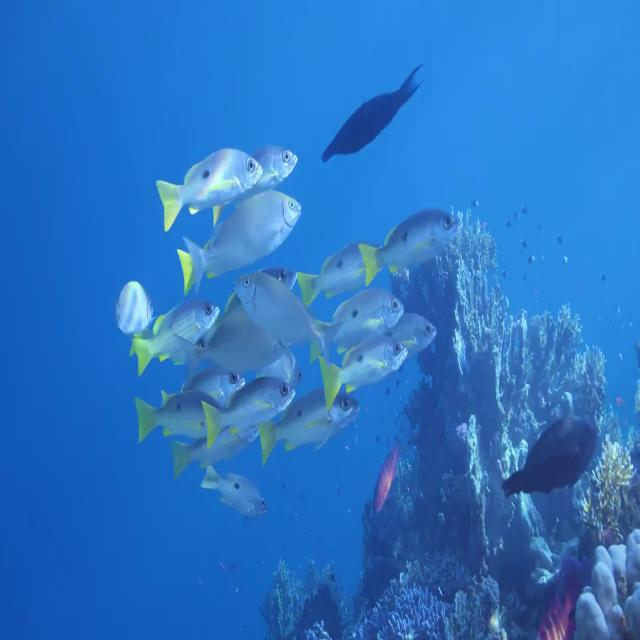fish: (314, 56, 426, 178), (179, 192, 303, 294), (152, 126, 268, 235), (126, 354, 236, 464), (494, 400, 604, 506), (210, 347, 296, 471), (262, 371, 364, 468), (355, 203, 467, 290), (114, 278, 210, 378), (297, 225, 371, 316), (322, 329, 410, 395), (311, 278, 399, 340), (534, 554, 580, 640), (108, 261, 156, 335), (190, 335, 247, 395), (386, 294, 436, 356), (256, 129, 306, 186)
